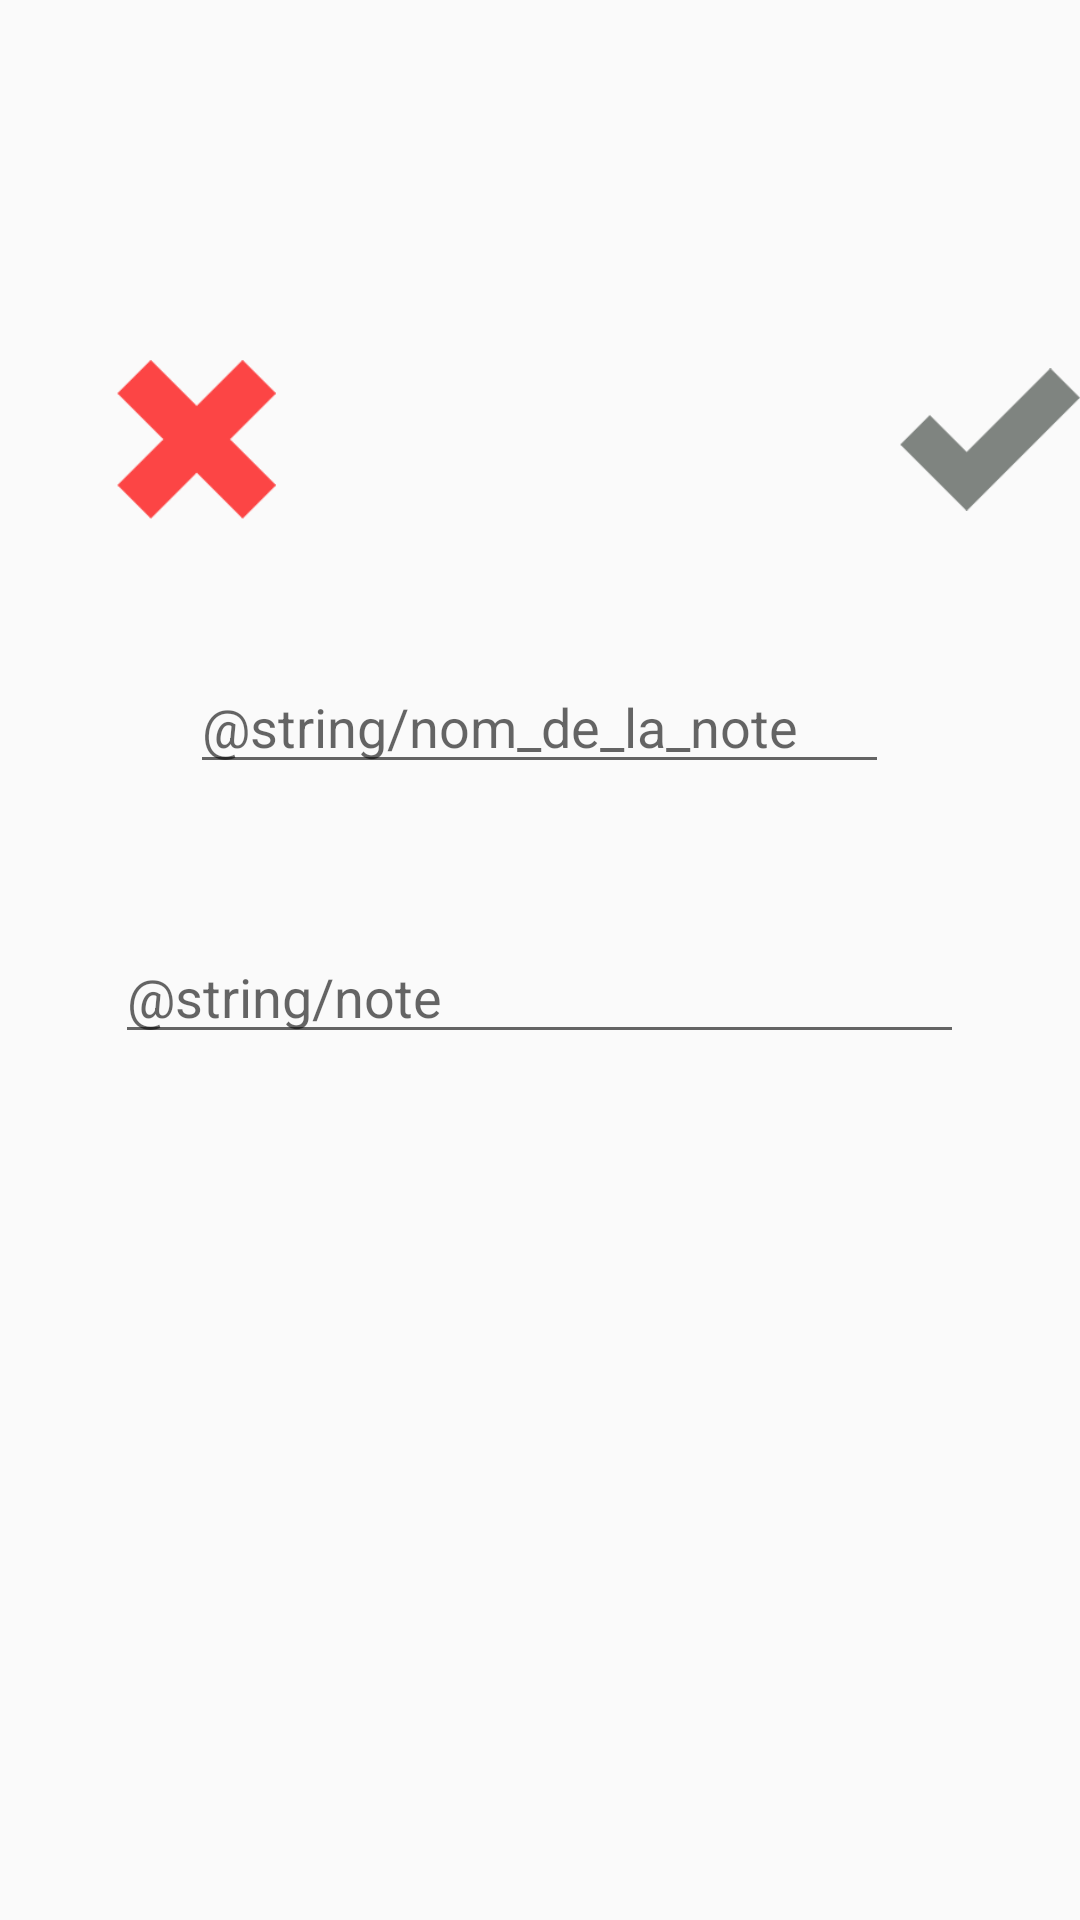

Icons on this 1080 × 1920 Android screen, each with the point to tap as (x=x, y=y):
cross: (x=196, y=439)
encoche grise: (x=990, y=439)
